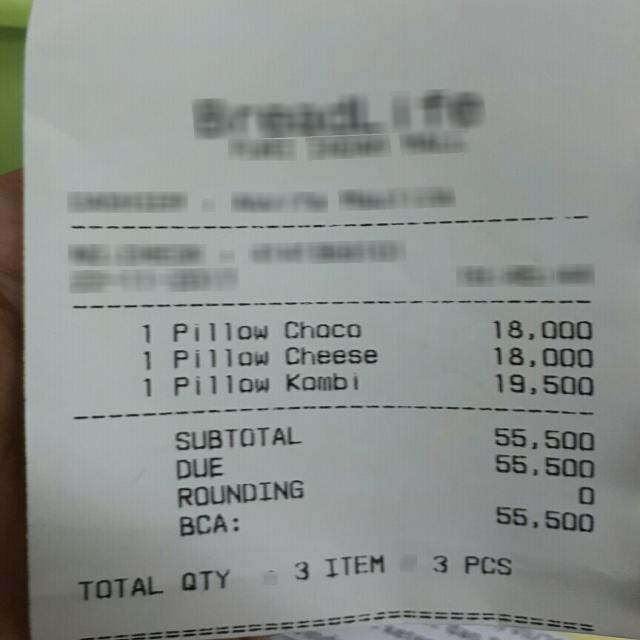kertas: (26, 0, 638, 639)
